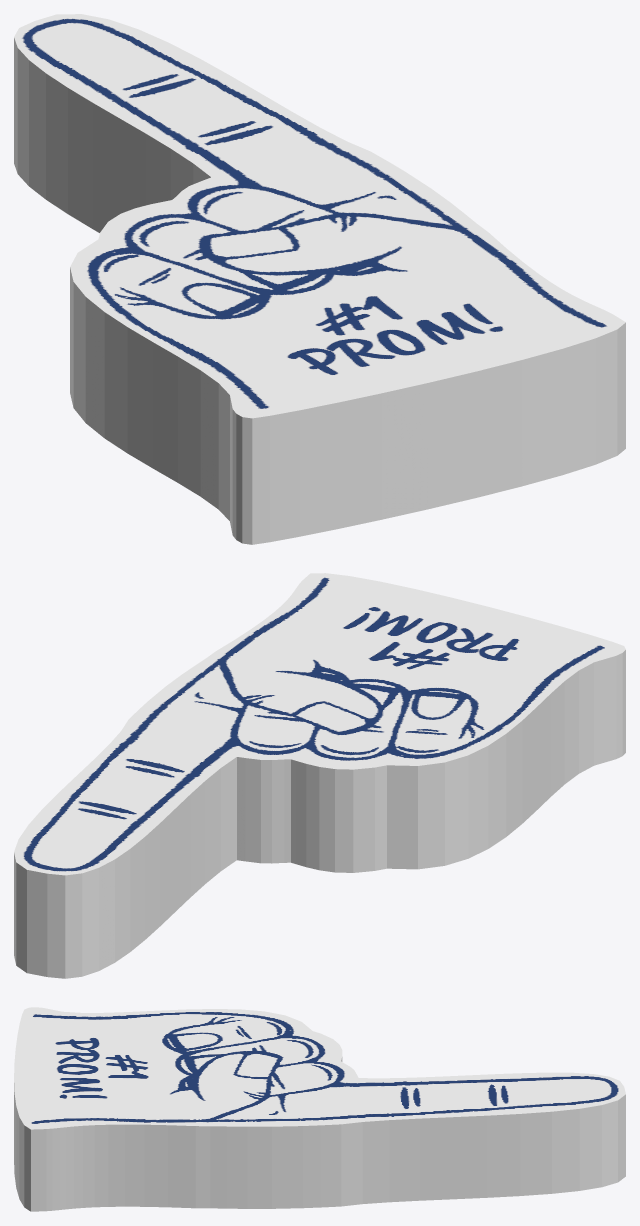
3 views of the same model, one above another, from view 1: azimuth 30°, elevation 25°; view 2: azimuth 150°, elevation 25°; view 3: azimuth 270°, elevation 25° (orthographic). The views are drawn at different scales.
Parts seen in each view (by area): view 1: BezierCurve; view 2: BezierCurve; view 3: BezierCurve.
Boxes of the visible parts, left/top/right/bottom form: BezierCurve: left=14, top=14, right=625, bottom=544; BezierCurve: left=14, top=573, right=625, bottom=978; BezierCurve: left=14, top=1007, right=625, bottom=1211.
Size of the model in its own units: 2.38 by 0.7455 by 5.03.
Materials: 1 (1 with a texture image).
